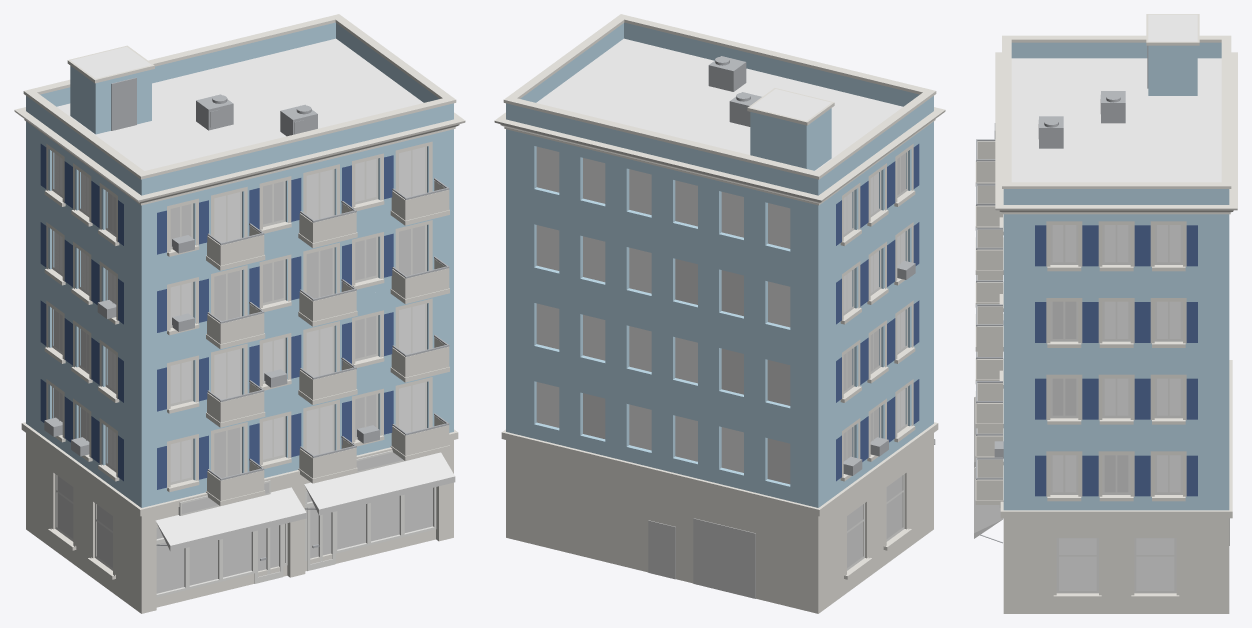
The model's file is midtown_w50f4s.glb.
3 renders of one model, left to right at view 1: azimuth 30°, elevation 25°; view 2: azimuth 150°, elevation 25°; view 3: azimuth 270°, elevation 25°, orthographic. The views are drawn at different scales.
Parts seen in each view (by area): view 1: midtown_w50f4s_Trim, midtown_w50f4s_Walls, midtown_w50f4s_WindowsLit, midtown_w50f4s_Roof, midtown_w50f4s_Glass, midtown_w50f4s_Accent, midtown_w50f4s_Frames, midtown_w50f4s_Awning, midtown_w50f4s_Details, midtown_w50f4s_Sign; view 2: midtown_w50f4s_Walls, midtown_w50f4s_Trim, midtown_w50f4s_Glass, midtown_w50f4s_Roof, midtown_w50f4s_WindowsLit, midtown_w50f4s_Doors, midtown_w50f4s_Accent, midtown_w50f4s_Details, midtown_w50f4s_Frames; view 3: midtown_w50f4s_Trim, midtown_w50f4s_Walls, midtown_w50f4s_Roof, midtown_w50f4s_Glass, midtown_w50f4s_Accent, midtown_w50f4s_Frames, midtown_w50f4s_Details, midtown_w50f4s_WindowsLit, midtown_w50f4s_Awning.
Boxes of the visible parts, bbox=[...] form: midtown_w50f4s_Trim: bbox=[14, 14, 465, 613]; midtown_w50f4s_Walls: bbox=[26, 22, 453, 507]; midtown_w50f4s_WindowsLit: bbox=[54, 181, 432, 593]; midtown_w50f4s_Roof: bbox=[57, 38, 423, 170]; midtown_w50f4s_Glass: bbox=[54, 147, 424, 482]; midtown_w50f4s_Accent: bbox=[40, 144, 393, 489]; midtown_w50f4s_Frames: bbox=[52, 146, 436, 597]; midtown_w50f4s_Awning: bbox=[155, 452, 455, 551]; midtown_w50f4s_Details: bbox=[44, 77, 449, 560]; midtown_w50f4s_Sign: bbox=[182, 452, 402, 513]; midtown_w50f4s_Walls: bbox=[506, 22, 933, 507]; midtown_w50f4s_Trim: bbox=[494, 14, 945, 613]; midtown_w50f4s_Glass: bbox=[536, 146, 905, 472]; midtown_w50f4s_Roof: bbox=[536, 38, 902, 170]; midtown_w50f4s_WindowsLit: bbox=[583, 153, 905, 567]; midtown_w50f4s_Doors: bbox=[648, 518, 755, 598]; midtown_w50f4s_Accent: bbox=[836, 144, 919, 481]; midtown_w50f4s_Details: bbox=[708, 56, 915, 475]; midtown_w50f4s_Frames: bbox=[843, 151, 907, 570]; midtown_w50f4s_Trim: bbox=[975, 14, 1237, 613]; midtown_w50f4s_Walls: bbox=[1003, 42, 1229, 510]; midtown_w50f4s_Roof: bbox=[1011, 14, 1221, 182]; midtown_w50f4s_Glass: bbox=[1052, 225, 1180, 590]; midtown_w50f4s_Accent: bbox=[1035, 225, 1197, 496]; midtown_w50f4s_Frames: bbox=[999, 225, 1182, 593]; midtown_w50f4s_Details: bbox=[976, 45, 1148, 543]; midtown_w50f4s_WindowsLit: bbox=[1052, 301, 1128, 492]; midtown_w50f4s_Awning: bbox=[974, 397, 1003, 538].
Size of the model in its own units: 52.5 by 72.54 by 37.4.
